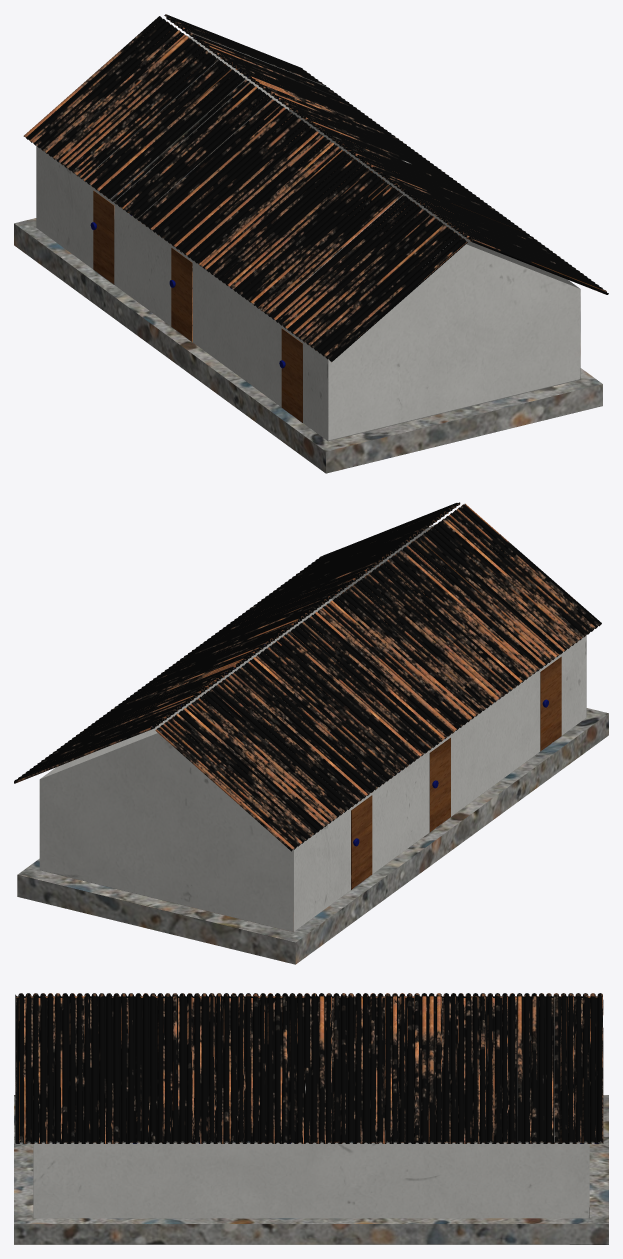
Rendered from village house 1.fbx.
3 renders of one model, top to bottom at view 1: azimuth 30°, elevation 25°; view 2: azimuth 150°, elevation 25°; view 3: azimuth 270°, elevation 25°, orthographic. The views are drawn at different scales.
Parts seen in each view (by area): view 1: Cylinder.003; view 2: Cylinder.003; view 3: Cylinder.003.
Boxes of the visible parts, x1,y1,x2,y2 form: Cylinder.003: (14,14,608,473); Cylinder.003: (14,502,608,964); Cylinder.003: (14,993,608,1244).
Bounding box in the file's own units: 787 × 524 × 1497.
5 materials, 5 textured.
